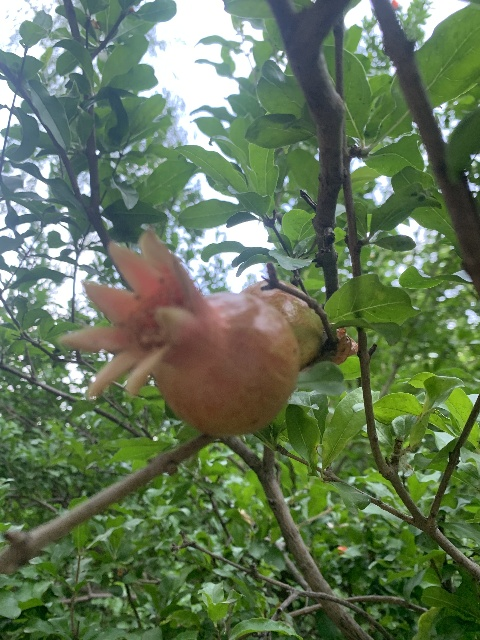early-fruit: (58, 227, 298, 436), (239, 281, 323, 370)
